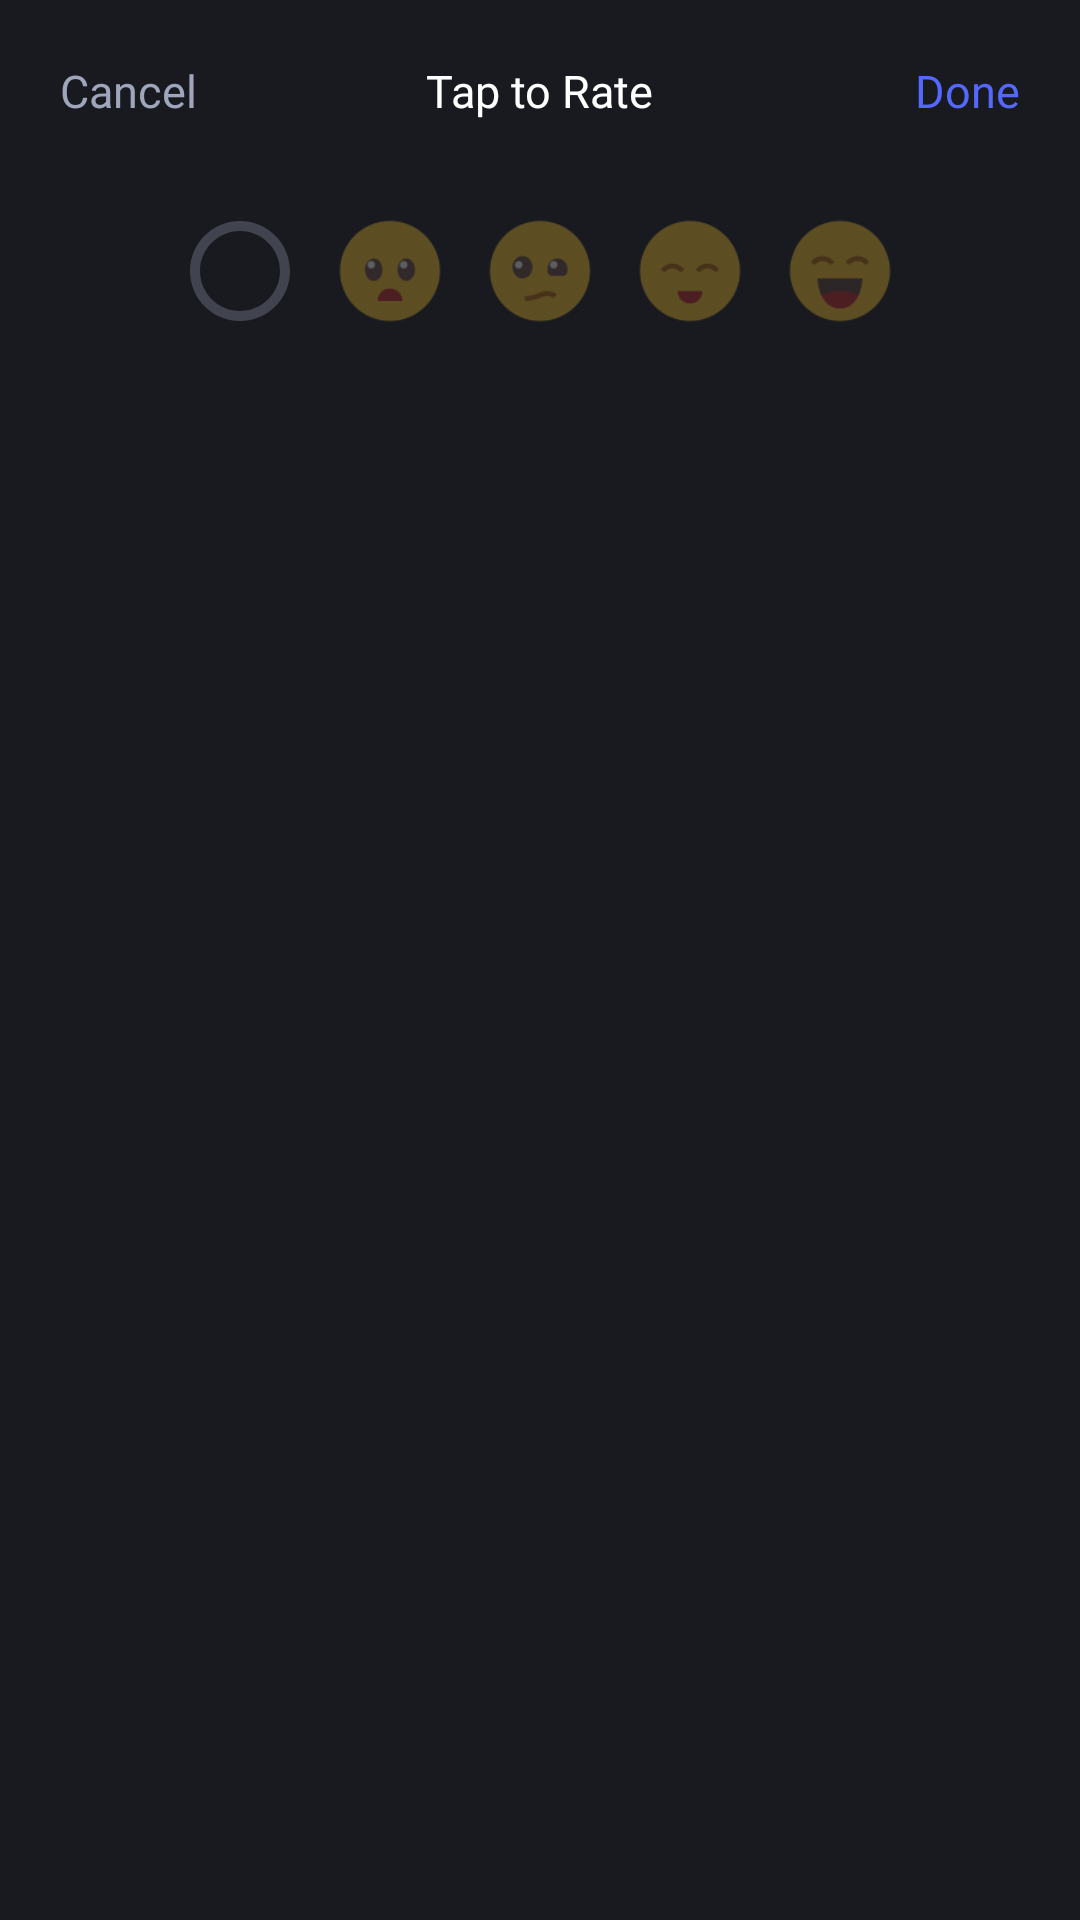

Where icons sit on this 1080w x 1920h app screen, as (x1, y1, x2, y2):
boring: (490, 221, 590, 321)
radio unchecked: (190, 221, 290, 321)
surprised: (340, 221, 440, 321)
